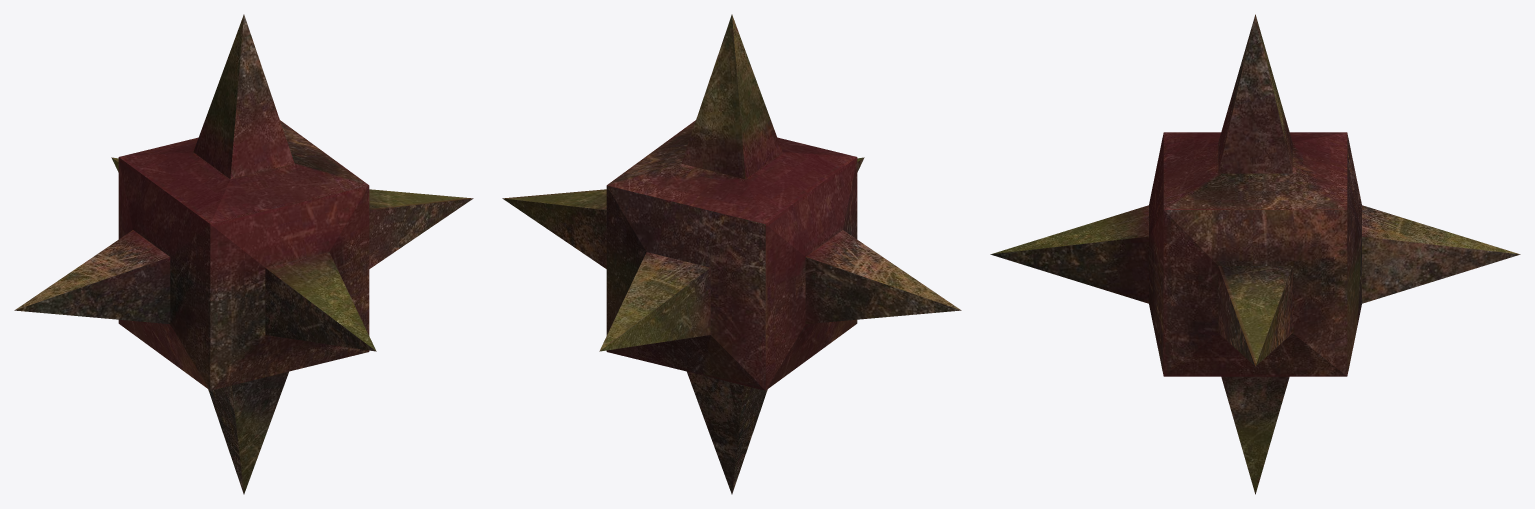
File: PINCHE2.fbx
3 views of the same model, side by side, from view 1: azimuth 30°, elevation 25°; view 2: azimuth 150°, elevation 25°; view 3: azimuth 270°, elevation 25° (orthographic).
Parts seen in each view (by area): view 1: Cube; view 2: Cube; view 3: Cube.
Boxes of the visible parts, x1,y1,x2,y2 form: Cube: [14, 14, 473, 494]; Cube: [502, 14, 961, 494]; Cube: [990, 14, 1520, 494].
Size of the model in its own units: 740 by 740 by 740.
